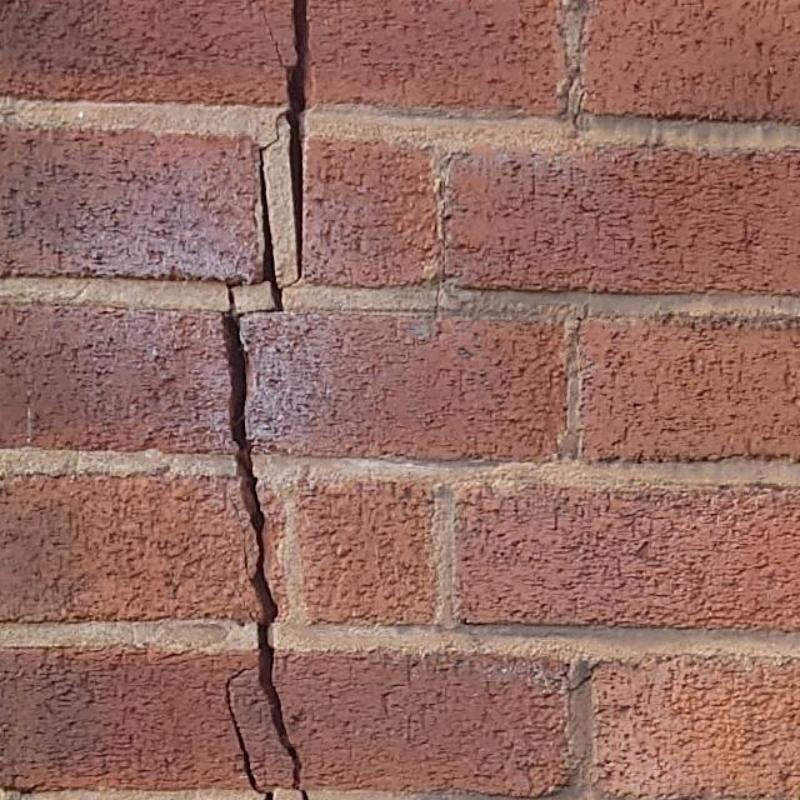pothole: (223, 282, 310, 799), (280, 0, 309, 290), (227, 667, 274, 799), (259, 111, 286, 312), (262, 12, 289, 69), (238, 309, 274, 318)
